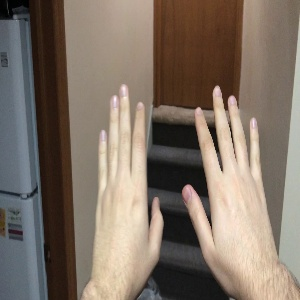hand: (182, 86, 278, 268), (96, 83, 164, 271)
